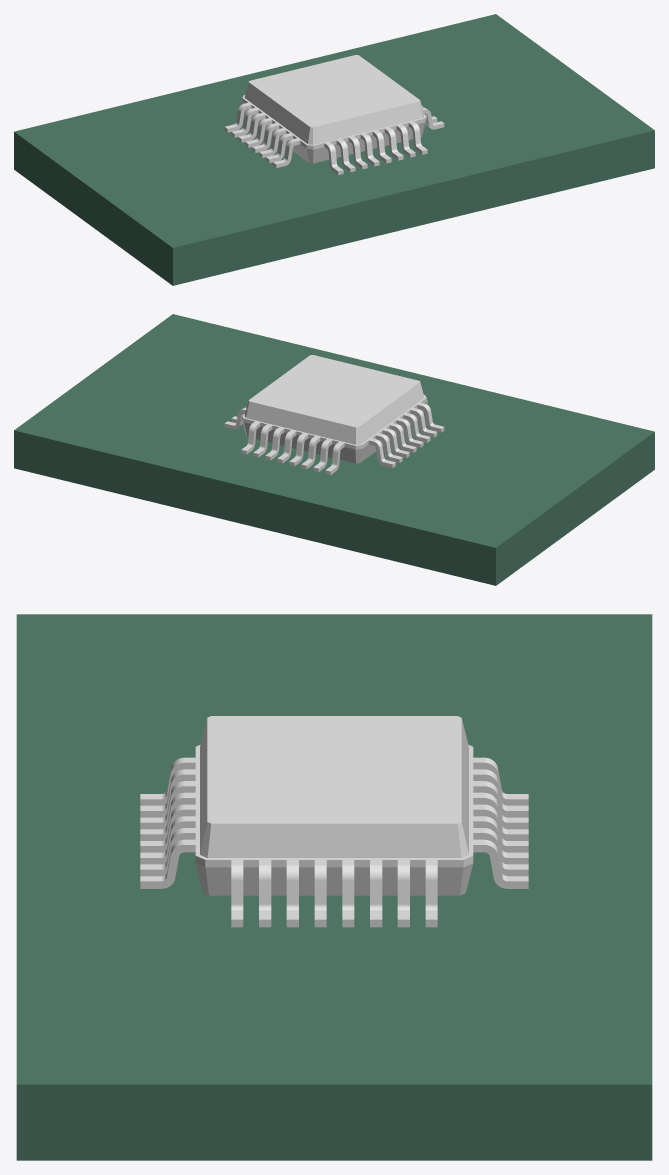
The model's file is Package_QFP_LQFP-32_5x5mm_P0.5mm.glb.
The picture shows the model from 3 angles, top to bottom: view 1: azimuth 30°, elevation 25°; view 2: azimuth 150°, elevation 25°; view 3: azimuth 270°, elevation 25°; orthographic projection. The views are drawn at different scales.
Parts seen in each view (by area): view 1: =>[0:1:1:3], REF**; view 2: =>[0:1:1:3], REF**; view 3: =>[0:1:1:3], REF**.
Part boxes in pixels (left/top/right/bottom): =>[0:1:1:3]: left=14, top=14, right=654, bottom=285; REF**: left=224, top=55, right=444, bottom=175; =>[0:1:1:3]: left=14, top=314, right=654, bottom=585; REF**: left=224, top=355, right=444, bottom=475; =>[0:1:1:3]: left=16, top=614, right=652, bottom=1160; REF**: left=140, top=716, right=528, bottom=927.
Size of the model in its own units: 0.0201 by 0.0031 by 0.0115.
